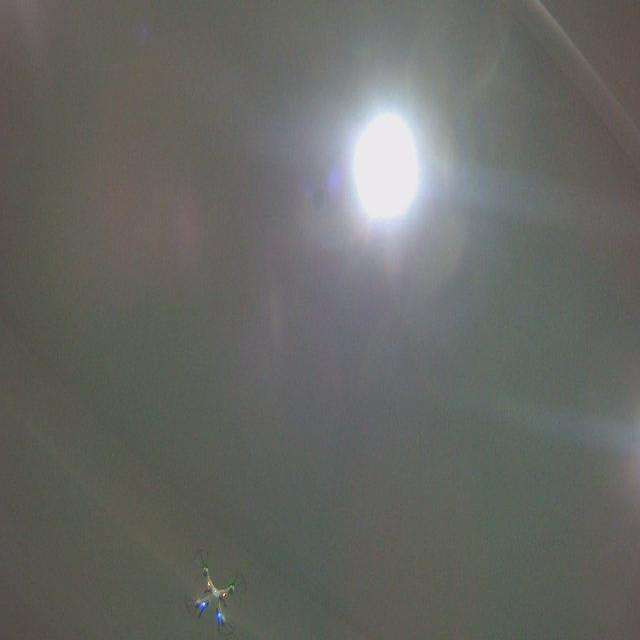drone: (183, 542, 247, 640)
